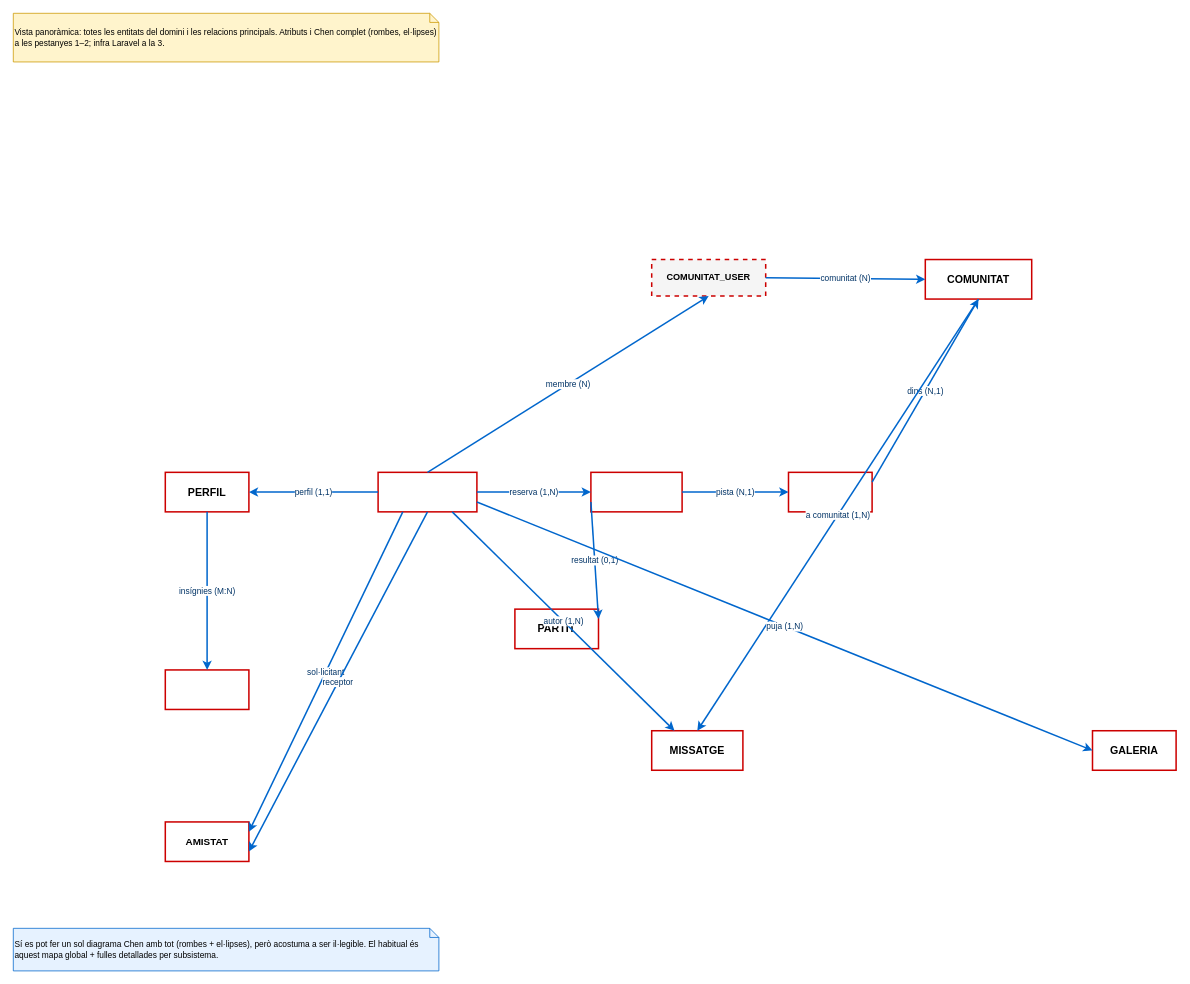
Some shapes in this 1190 by 984 pixel diagram are drawn without their labels. Here are the shapes that lost their labels. From the top down, the centre of each, then its label:
(x=427, y=491): USUARI
(x=636, y=491): RESERVA
(x=829, y=491): PISTA
(x=206, y=689): INSÍGNIA
